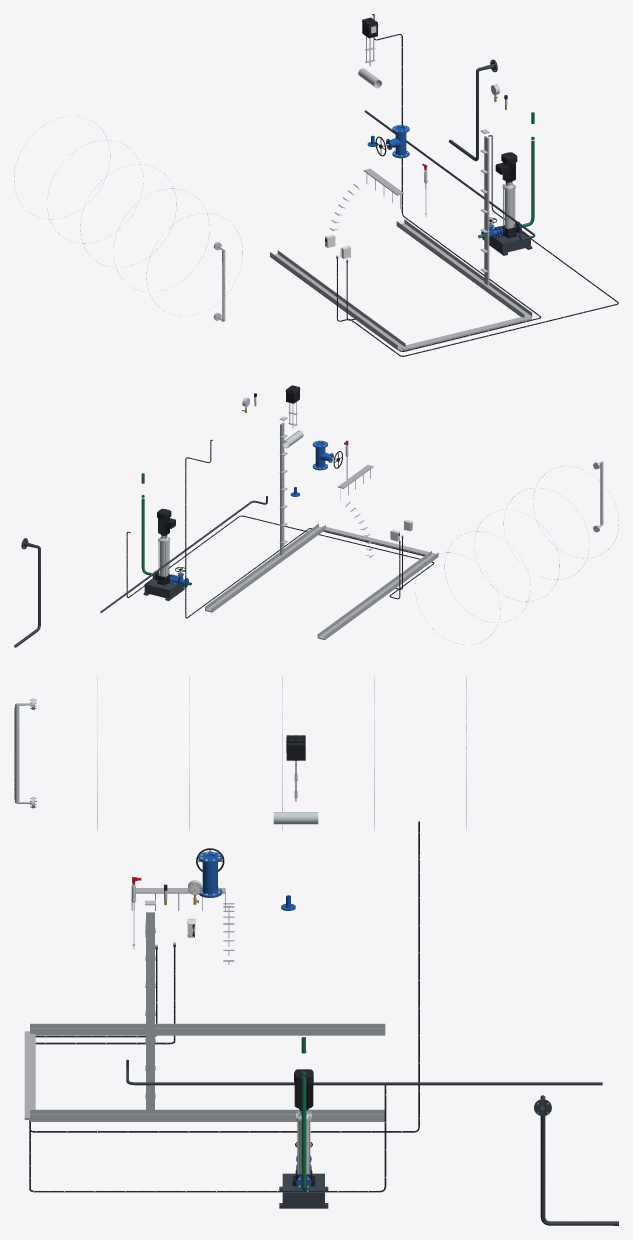
The model's file is s4000-2-DCmuAlvN.glb.
3 views of the same model, one above another, from view 1: azimuth 30°, elevation 25°; view 2: azimuth 150°, elevation 25°; view 3: azimuth 270°, elevation 25° (orthographic). The views are drawn at different scales.
Parts seen in each view (by area): view 1: cables / zinc, mod_eco_drive_cable / black, wiring_pump_2 / black, deaerator_details / steel, pump_branch_1 / dark, tds_common / dark, steam_manual / blue, bottom_to_bdv / dark, pump_1 CAD solid 15; view 2: cables / zinc, mod_eco_drive_cable / black, wiring_pump_2 / black, deaerator_details / steel, pump_branch_1 / dark, tds_common / dark, bottom_to_bdv / dark, steam_manual / blue, pump_branch_1 / green, pump_1 CAD solid 15; view 3: cables / zinc, tds_common / dark, mod_eco_drive_cable / black, wiring_pump_2 / black, deaerator_details / steel, bottom_to_bdv / dark, pump_branch_1 / dark, steam_manual / blue, pump_branch_1 / green.
Part boxes in pixels (bbox=[...]): cables / zinc: bbox=[270, 136, 532, 350]; mod_eco_drive_cable / black: bbox=[346, 14, 540, 351]; wiring_pump_2 / black: bbox=[337, 135, 618, 356]; deaerator_details / steel: bbox=[14, 116, 242, 321]; pump_branch_1 / dark: bbox=[489, 230, 532, 255]; tds_common / dark: bbox=[364, 110, 535, 240]; steam_manual / blue: bbox=[386, 125, 409, 158]; bottom_to_bdv / dark: bbox=[448, 59, 497, 161]; pump_1 CAD solid 15: bbox=[495, 152, 517, 181]; cables / zinc: bbox=[205, 422, 438, 639]; mod_eco_drive_cable / black: bbox=[185, 439, 424, 618]; wiring_pump_2 / black: bbox=[126, 515, 434, 599]; deaerator_details / steel: bbox=[415, 461, 618, 644]; pump_branch_1 / dark: bbox=[143, 578, 184, 600]; tds_common / dark: bbox=[100, 496, 267, 612]; bottom_to_bdv / dark: bbox=[14, 538, 40, 647]; steam_manual / blue: bbox=[312, 440, 333, 470]; pump_branch_1 / green: bbox=[141, 473, 191, 585]; pump_1 CAD solid 15: bbox=[157, 508, 175, 535]; cables / zinc: bbox=[24, 888, 385, 1121]; tds_common / dark: bbox=[126, 1059, 602, 1085]; mod_eco_drive_cable / black: bbox=[29, 821, 419, 1132]; wiring_pump_2 / black: bbox=[29, 947, 386, 1192]; deaerator_details / steel: bbox=[15, 676, 466, 830]; bottom_to_bdv / dark: bbox=[534, 1095, 618, 1225]; pump_branch_1 / dark: bbox=[279, 1173, 328, 1208]; steam_manual / blue: bbox=[198, 851, 222, 897]; pump_branch_1 / green: bbox=[301, 1037, 306, 1191].
Size of the model in its own units: 7.52 by 3.7 by 5.57.
